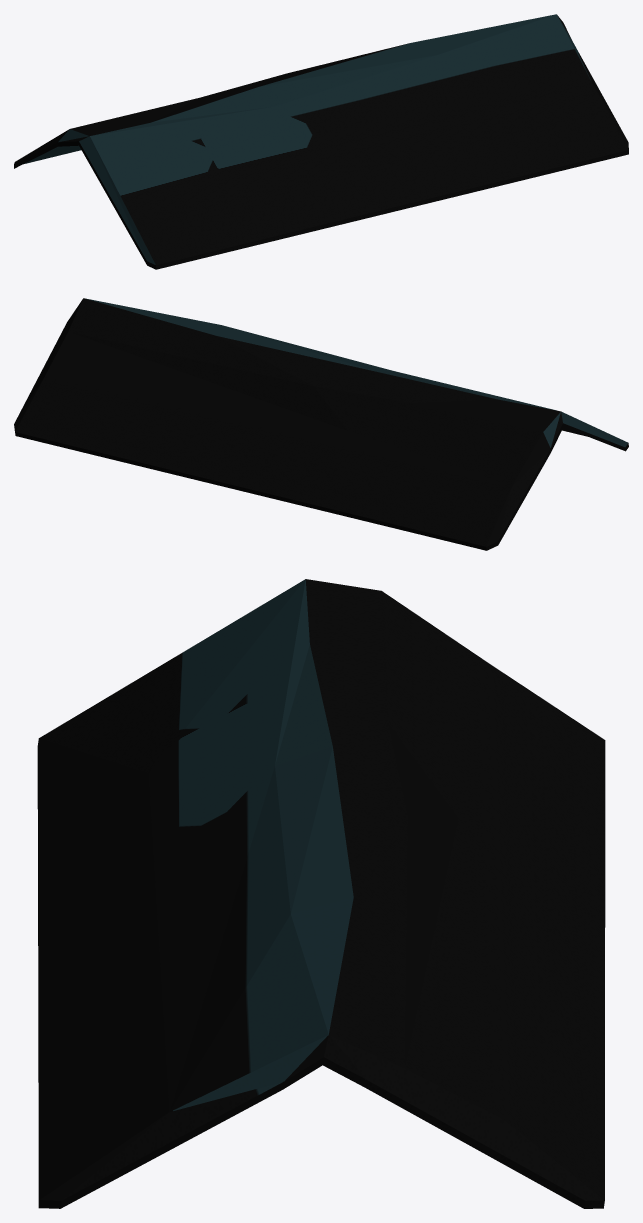
3 renders of one model, top to bottom at view 1: azimuth 30°, elevation 25°; view 2: azimuth 150°, elevation 25°; view 3: azimuth 270°, elevation 25°, orthographic. The views are drawn at different scales.
Parts seen in each view (by area): view 1: Cube.001_Baked; view 2: Cube.001_Baked; view 3: Cube.001_Baked.
Boxes of the visible parts, x1,y1,x2,y2 form: Cube.001_Baked: [14, 14, 628, 269]; Cube.001_Baked: [14, 298, 628, 550]; Cube.001_Baked: [37, 579, 605, 1208].
Size of the model in its own units: 1014 by 174 by 509.
